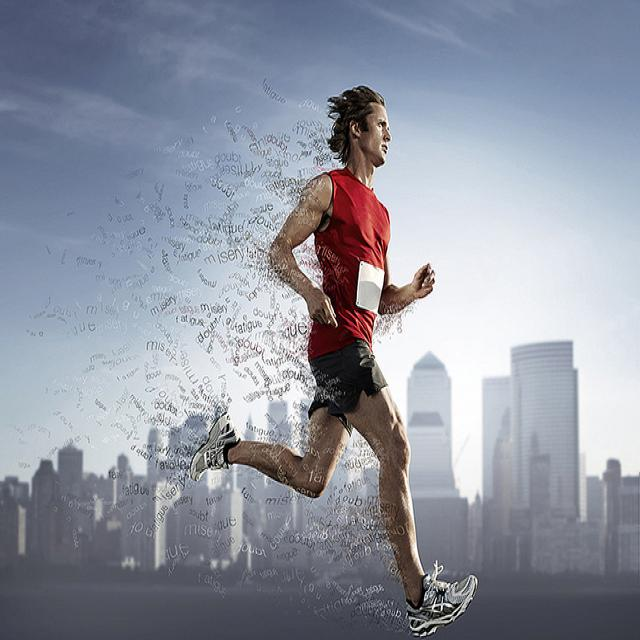running: (200, 84, 484, 614)
